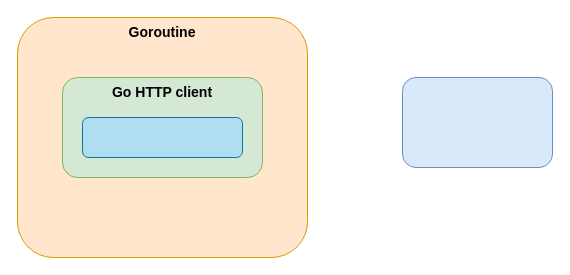
Some shapes in this 570 by 275 pixel diagram are drawn without their labels. The shapes that lost their labels are listed below. From the top down, each one's centre as x and y in pixels, then its label:
At (x=162, y=137): "TCP connections pool".
At (x=477, y=122): "HTTP Host".
